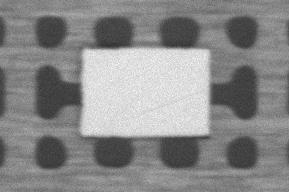DIE_CRACK: (187, 60, 289, 80)
